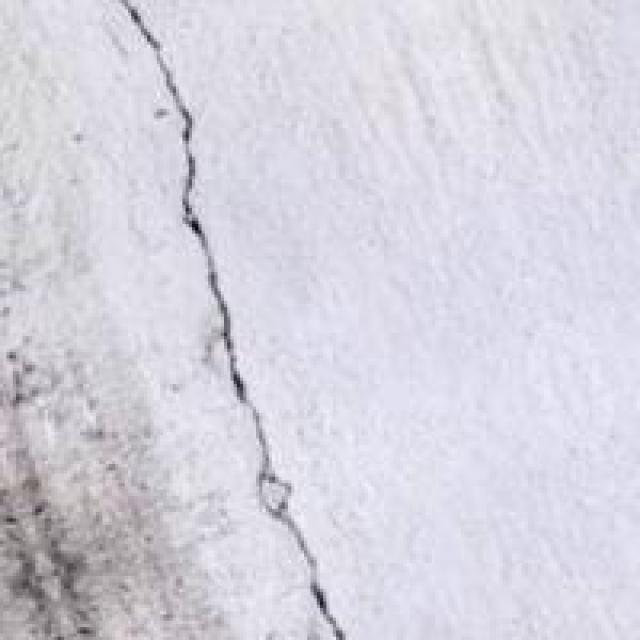crack: (92, 0, 378, 637)
